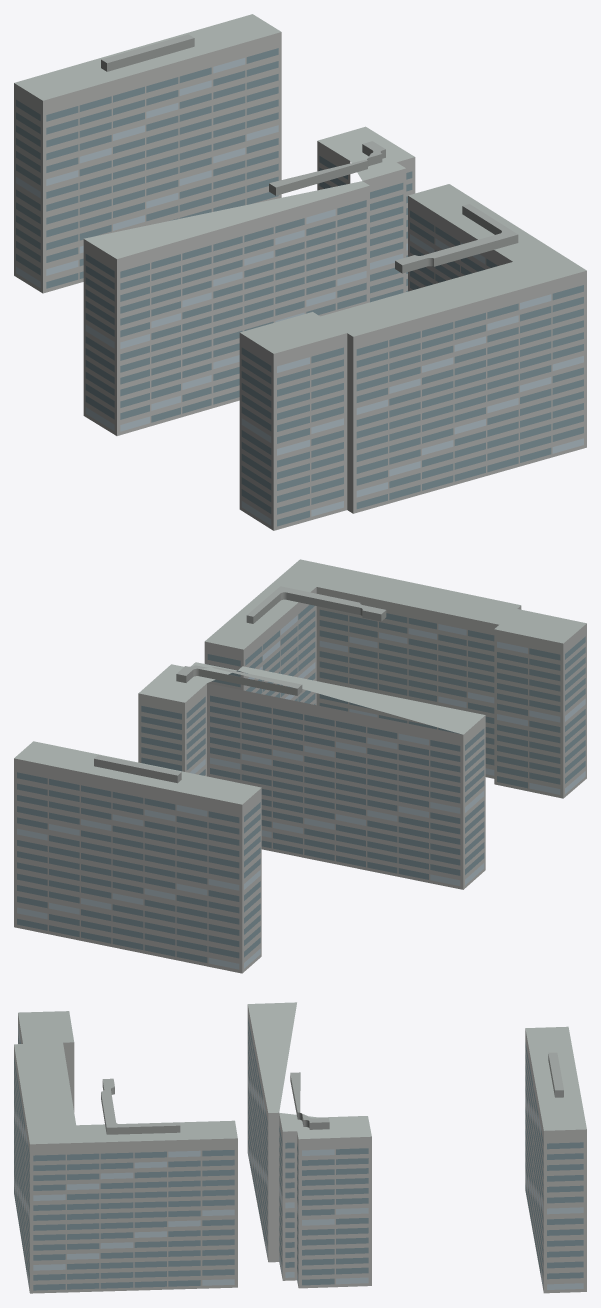
File: apt-a13286904.glb
3 views of the same model, one above another, from view 1: azimuth 30°, elevation 25°; view 2: azimuth 150°, elevation 25°; view 3: azimuth 270°, elevation 25° (orthographic). The views are drawn at different scales.
Parts seen in each view (by area): view 1: apt-a13286904; view 2: apt-a13286904; view 3: apt-a13286904.
Boxes of the visible parts, <box> form: apt-a13286904: <box>14,14,586,530</box>; apt-a13286904: <box>14,559,586,973</box>; apt-a13286904: <box>14,1002,586,1293</box>.
Bounding box in the file's own units: 85.69 × 47.81 × 146.
